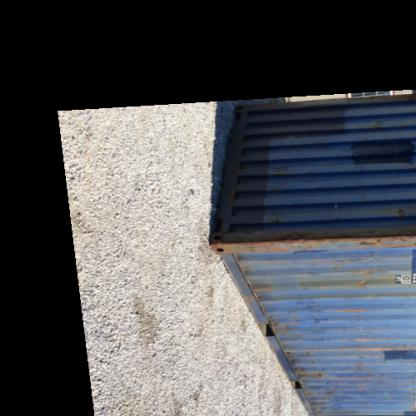Damage: (200, 213, 352, 253), (300, 258, 410, 286), (354, 205, 414, 253), (230, 254, 275, 306), (330, 331, 414, 357), (338, 362, 414, 388), (284, 344, 332, 384), (306, 298, 378, 322), (346, 391, 414, 410), (268, 313, 306, 335), (308, 391, 342, 415), (260, 158, 296, 178), (364, 115, 394, 129)
